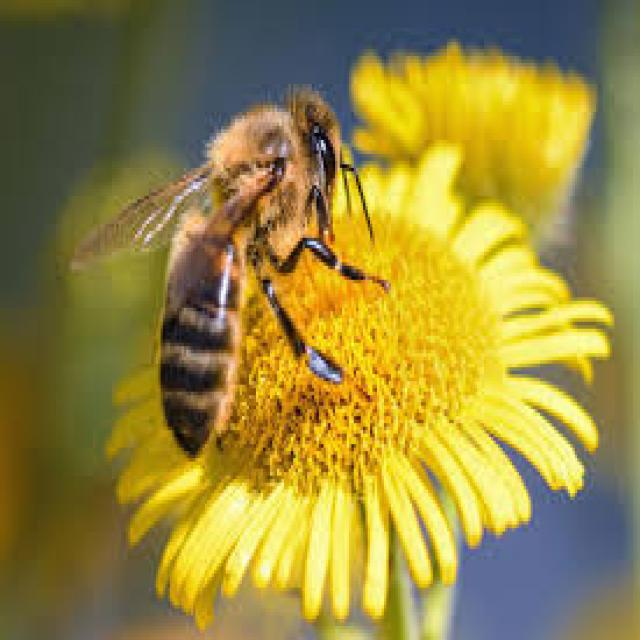Bees: (68, 83, 392, 461)
